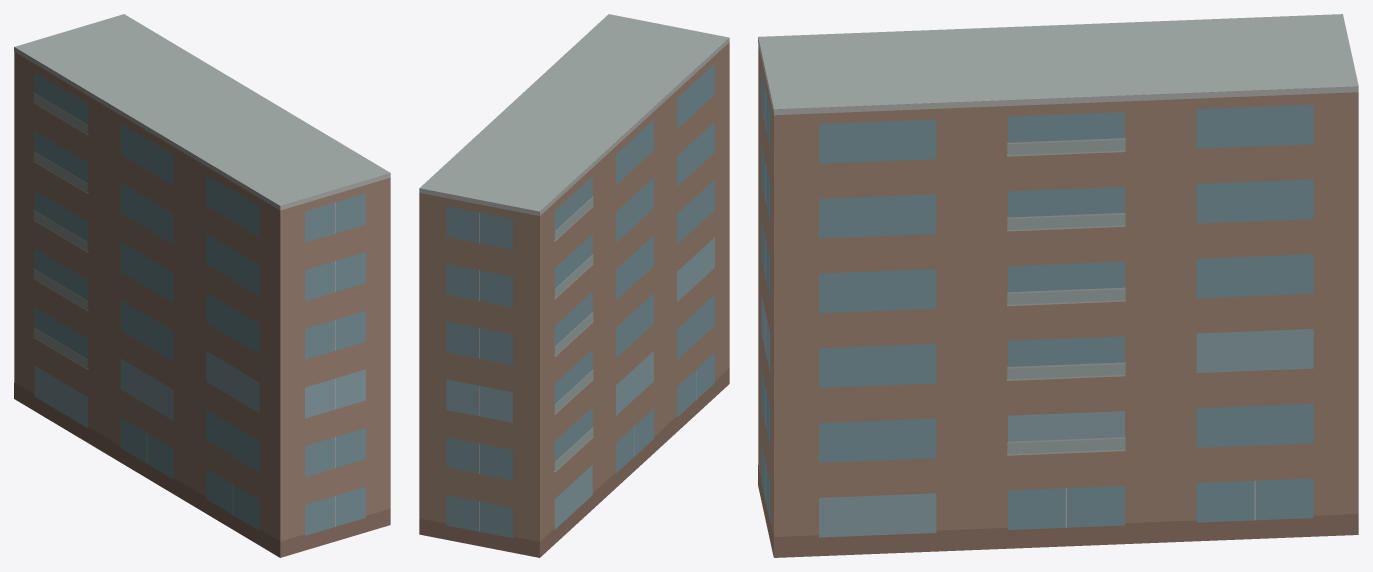
The model's file is survey-upis-32567348.glb.
3 renders of one model, left to right at view 1: azimuth 30°, elevation 25°; view 2: azimuth 150°, elevation 25°; view 3: azimuth 270°, elevation 25°, orthographic. The views are drawn at different scales.
Visible parts, largest first — view 1: survey-upis-32567348.tmp; view 2: survey-upis-32567348.tmp; view 3: survey-upis-32567348.tmp.
Boxes of the visible parts, left/top/right/bottom form: survey-upis-32567348.tmp: left=14, top=14, right=390, bottom=557; survey-upis-32567348.tmp: left=419, top=14, right=729, bottom=557; survey-upis-32567348.tmp: left=758, top=14, right=1358, bottom=557.
Bounding box in the file's own units: 8.44 × 18.5 × 22.46.
